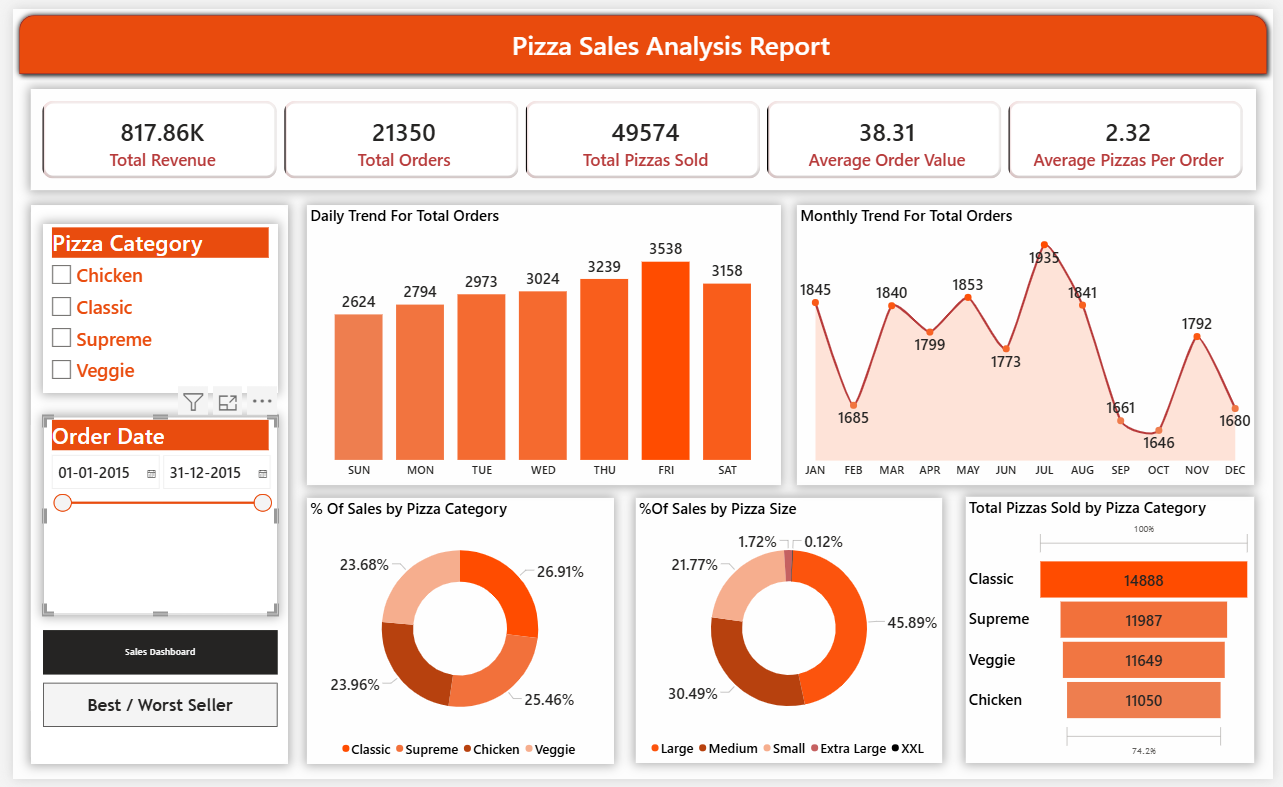

The dashboard page shown, as its layout file describes it:
{"tool":"powerbi","page":{"name":"Sales Dashboard","canvas":[1800,1100],"ordinal":0},"visuals":[{"type":"cardVisual","fields":{"Data":["pizza_sales.Total Revenue","pizza_sales.Total Orders","pizza_sales.Total Pizzas Sold","pizza_sales.Average Order Value","pizza_sales.Average Pizzas Per Order"]},"box":[25,115,1750,145],"z":0},{"type":"shape","box":[0,0,1800,102],"z":1000},{"type":"textbox","box":[703.8,21.8,472.5,60.3],"z":2000},{"type":"clusteredColumnChart","title":"Daily Trend For Total Orders","fields":{"Category":["pizza_sales.Order Day"],"Y":["pizza_sales.Total Orders"]},"box":[420,280,676.7,400],"z":3000},{"type":"areaChart","title":"Monthly Trend For Total Orders","fields":{"Category":["pizza_sales.Order Month"],"Y":["pizza_sales.Total Orders"]},"box":[1120,280,653.3,400],"z":4000},{"type":"donutChart","title":"% Of Sales by Pizza Category","fields":{"Category":["pizza_sales.pizza_category"],"Y":["pizza_sales.Total Revenue"]},"box":[420,698.2,438.2,380],"z":5000},{"type":"donutChart","title":"%Of Sales by Pizza Size","fields":{"Y":["pizza_sales.Total Revenue"],"Category":["pizza_sales.pizza_size"]},"box":[890,698.8,438.8,378.8],"z":6000},{"type":"funnel","title":"Total Pizzas Sold by Pizza Category","fields":{"Category":["pizza_sales.pizza_category"],"Y":["pizza_sales.Total Pizzas Sold"]},"box":[1360.9,697.3,412.7,380.9],"z":7000},{"type":"shape","box":[25.8,280,368.3,798.3],"z":8000},{"type":"slicer","fields":{"Values":["pizza_sales.pizza_category"]},"box":[42.4,307.8,335.5,241.5],"z":9000},{"type":"slicer","fields":{"Values":["pizza_sales.order_date"]},"box":[42.4,582.4,335.5,283.8],"z":10000},{"type":"pageNavigator","box":[42.1,887.7,335.1,63.2],"z":11000},{"type":"pageNavigator","box":[42.1,963.2,335.1,63.2],"z":12000}]}

Visuals, with their boxes in screenshot pixels (x1, y1, x2, y2), scaled from the page's 1800x1100 canvas onto the 1283x787 screenshot:
cardVisual - pizza_sales.Total Revenue x pizza_sales.Total Orders: left=18, top=82, right=1265, bottom=186
shape: left=0, top=0, right=1282, bottom=73
textbox: left=502, top=16, right=838, bottom=59
"Daily Trend For Total Orders" clusteredColumnChart: left=299, top=200, right=782, bottom=487
"Monthly Trend For Total Orders" areaChart: left=798, top=200, right=1264, bottom=487
"% Of Sales by Pizza Category" donutChart: left=299, top=500, right=612, bottom=771
"%Of Sales by Pizza Size" donutChart: left=634, top=500, right=947, bottom=771
"Total Pizzas Sold by Pizza Category" funnel: left=970, top=499, right=1264, bottom=771
shape: left=18, top=200, right=281, bottom=771
slicer - pizza_sales.pizza_category: left=30, top=220, right=269, bottom=393
slicer - pizza_sales.order_date: left=30, top=417, right=269, bottom=620
pageNavigator: left=30, top=635, right=269, bottom=680
pageNavigator: left=30, top=689, right=269, bottom=734
